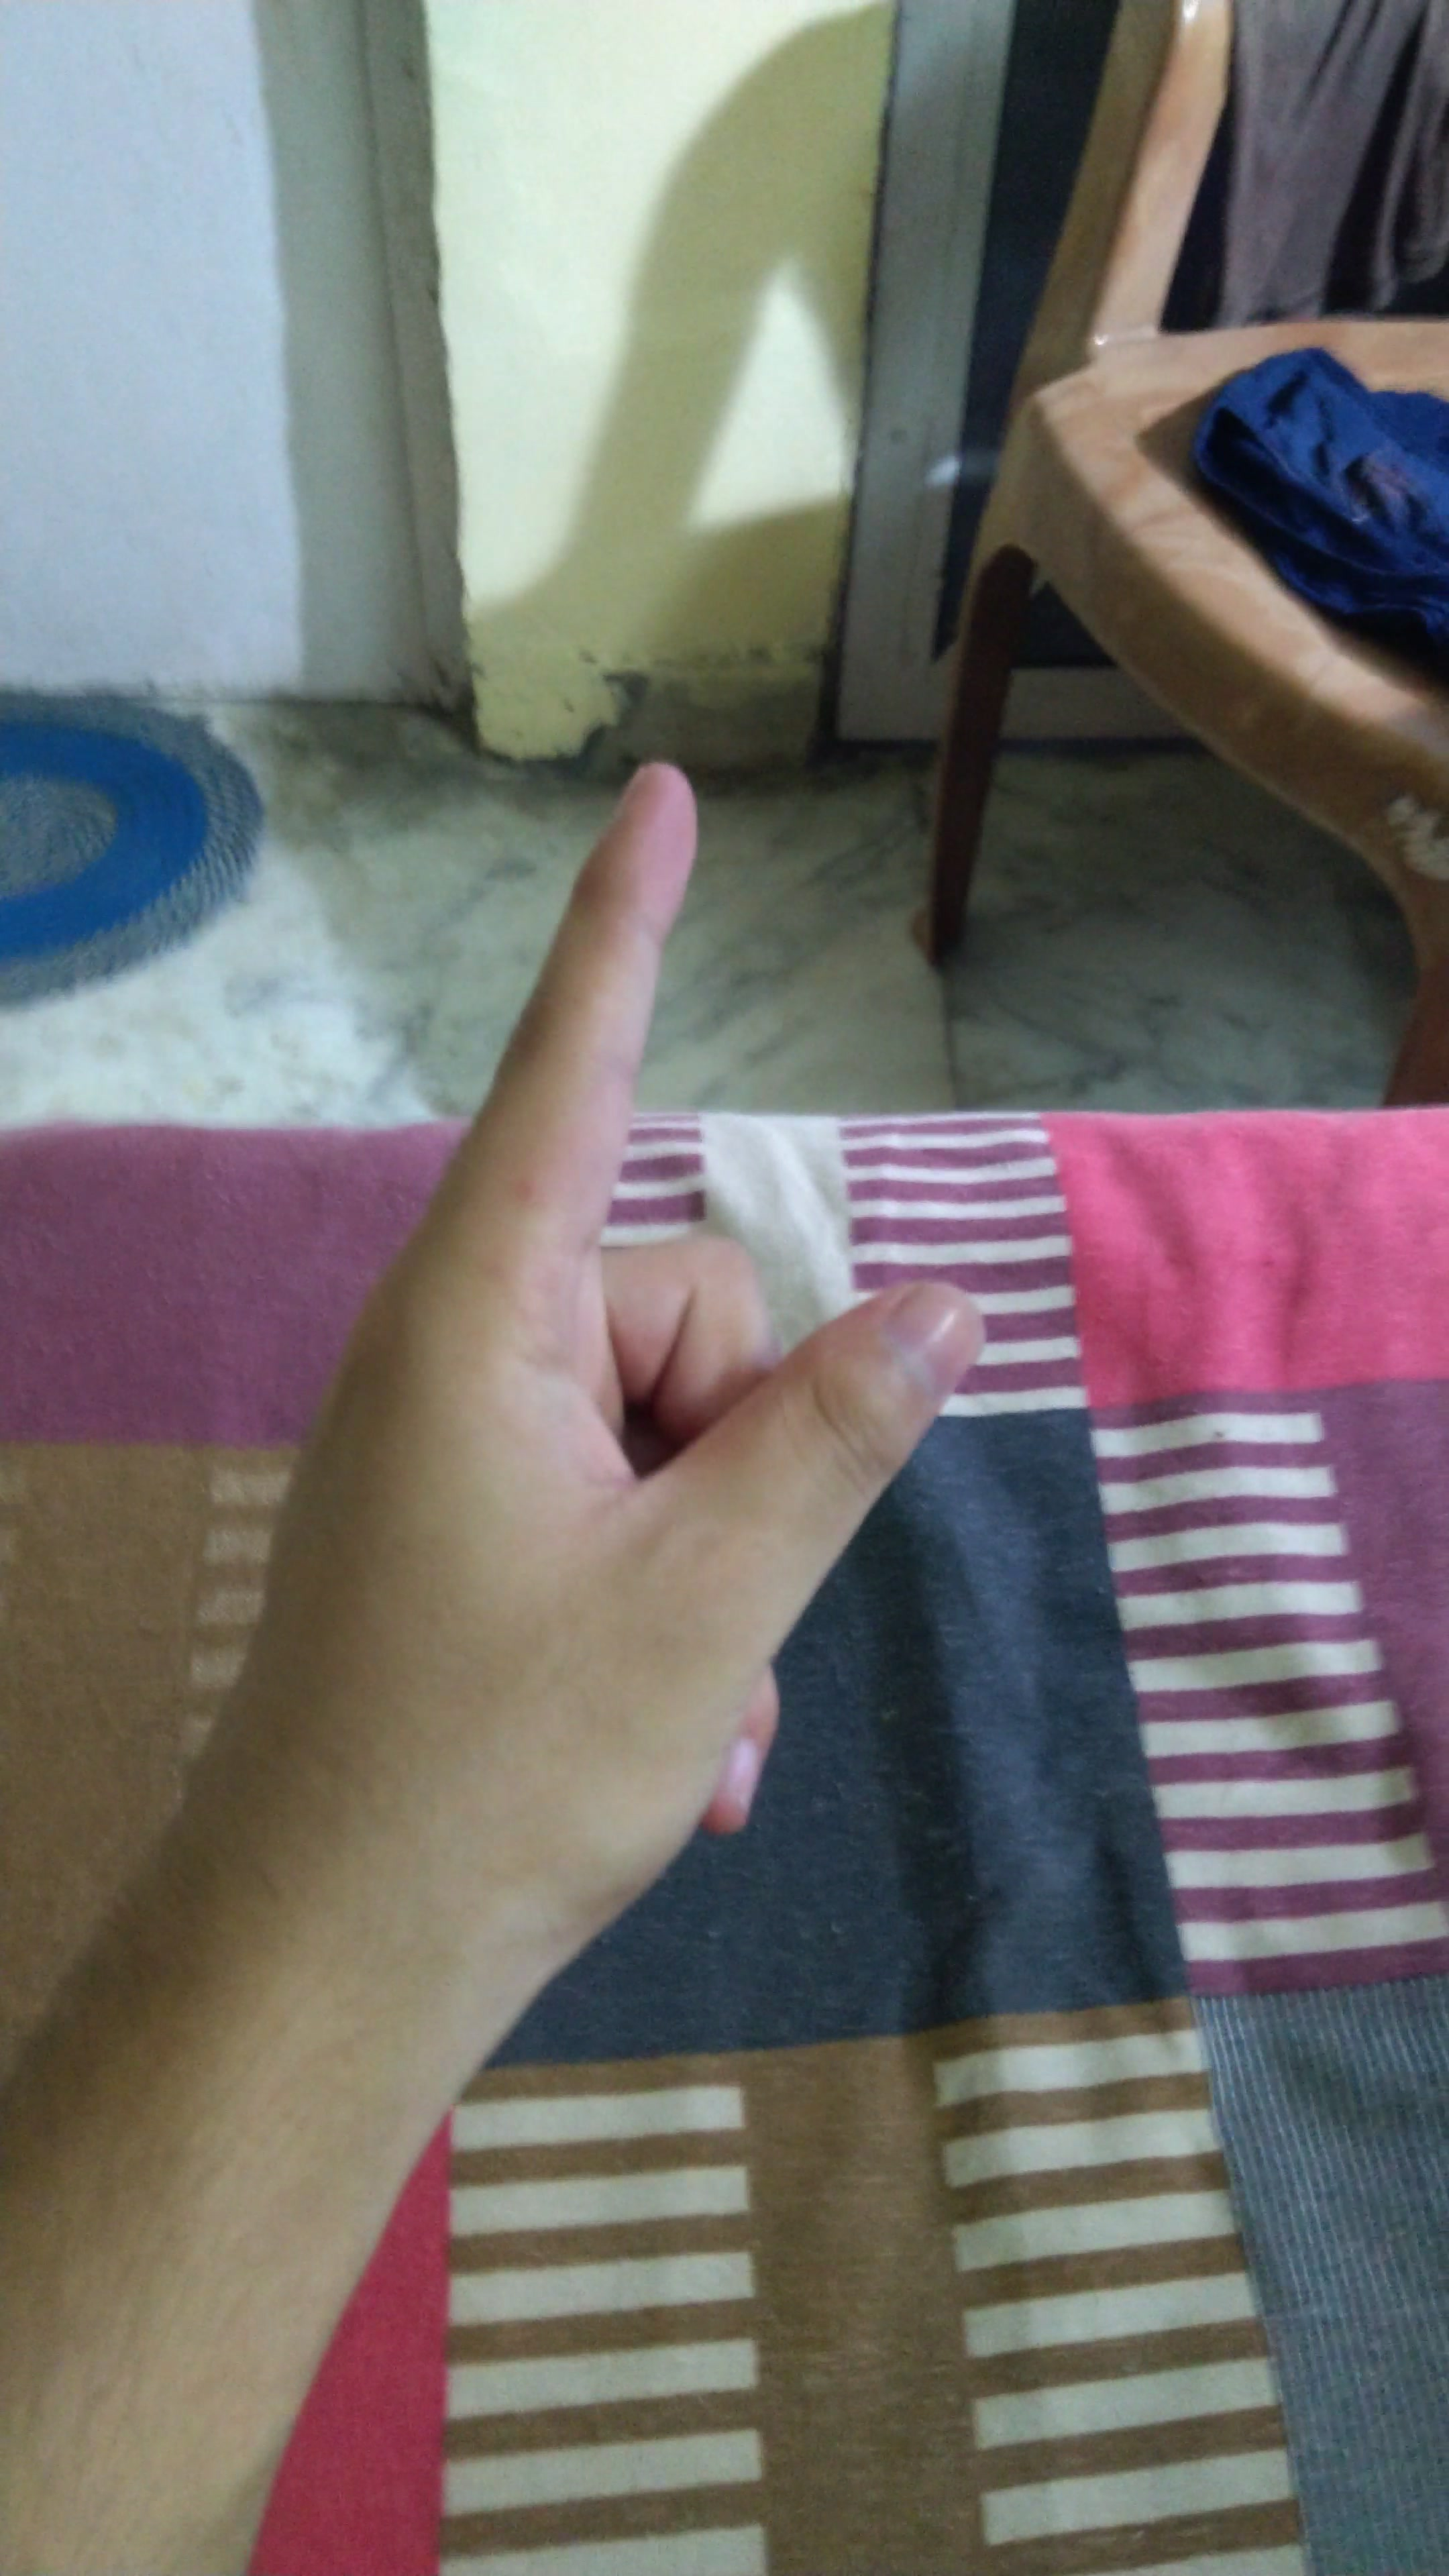hand: (189, 722, 1033, 1996)
